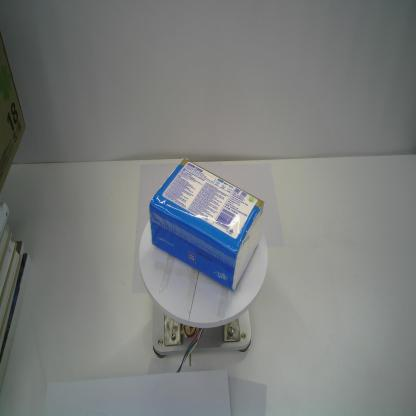Tissue: (149, 157, 265, 292)
